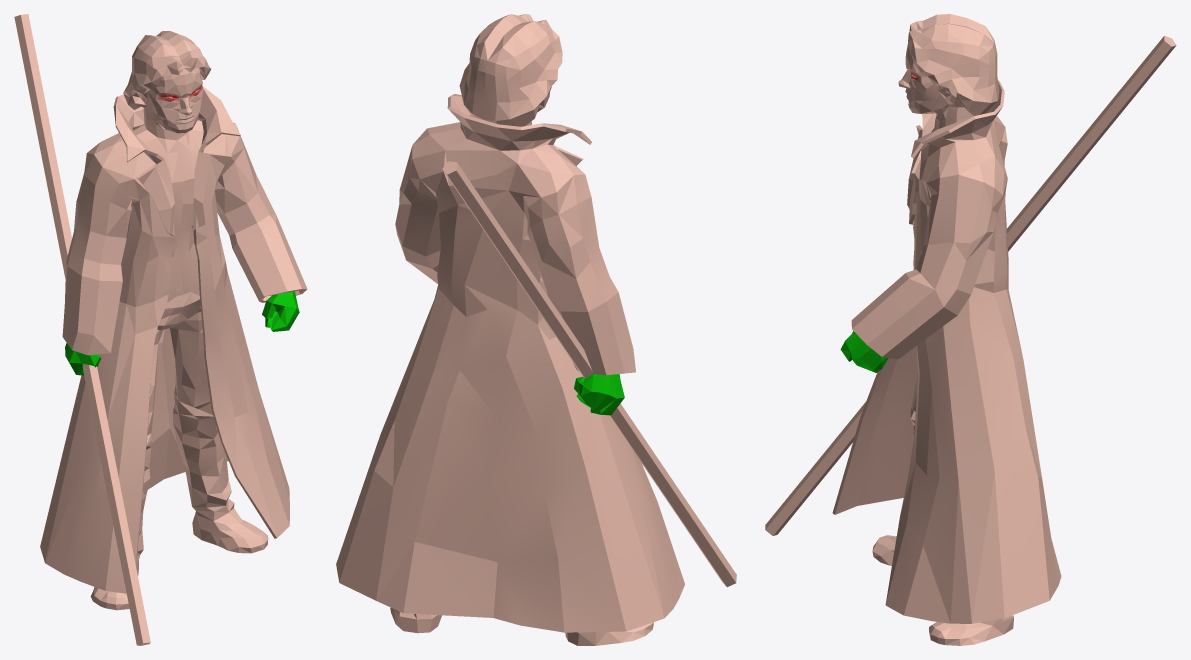
Rendered from Joran.fbx.
The picture shows the model from 3 angles, left to right: view 1: azimuth 30°, elevation 25°; view 2: azimuth 150°, elevation 25°; view 3: azimuth 270°, elevation 25°; orthographic projection. The views are drawn at different scales.
Parts seen in each view (by area): view 1: Jordan; view 2: Jordan; view 3: Jordan.
Boxes of the visible parts, bbox=[...] form: Jordan: bbox=[14, 14, 307, 645]; Jordan: bbox=[336, 14, 736, 645]; Jordan: bbox=[765, 14, 1176, 645].
Bounding box in the file's own units: 92.22 × 181 × 117.
